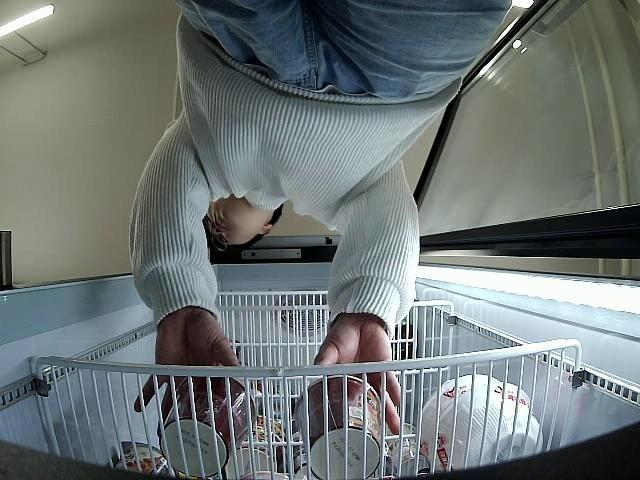06_nuguri_S: (160, 372, 258, 480), (294, 372, 388, 480), (162, 373, 254, 476), (298, 376, 382, 480)
